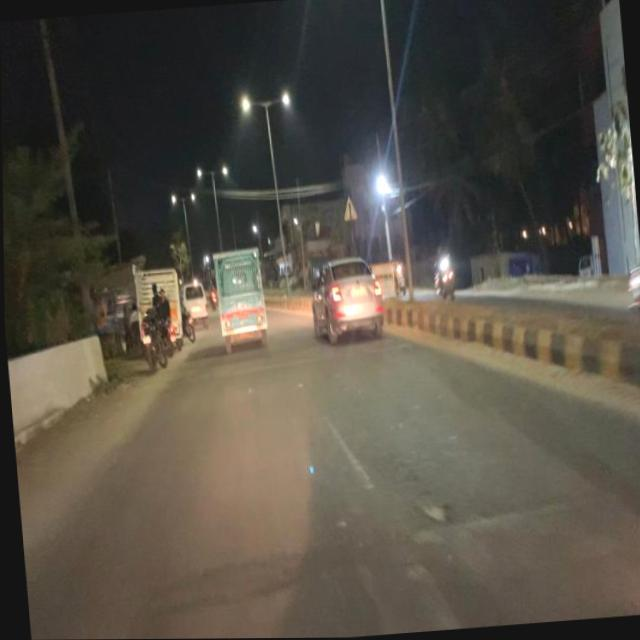Potholes: (411, 494, 465, 534)
